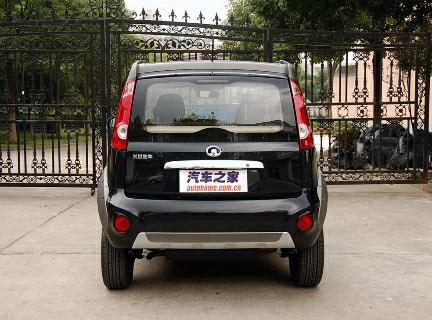长城-M1: (88, 56, 336, 297)
